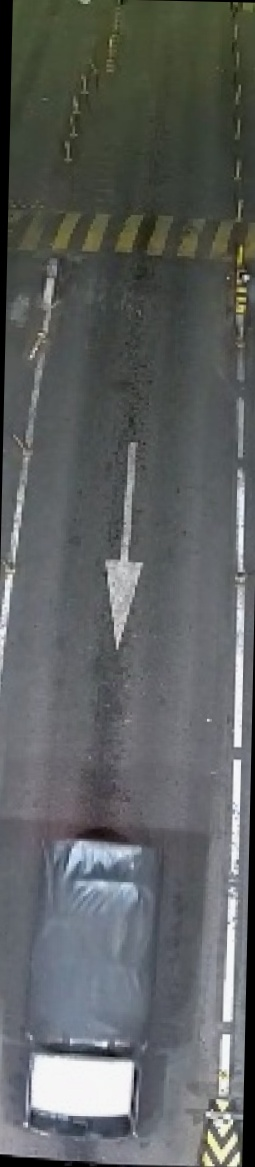truck: (12, 820, 177, 1150)
